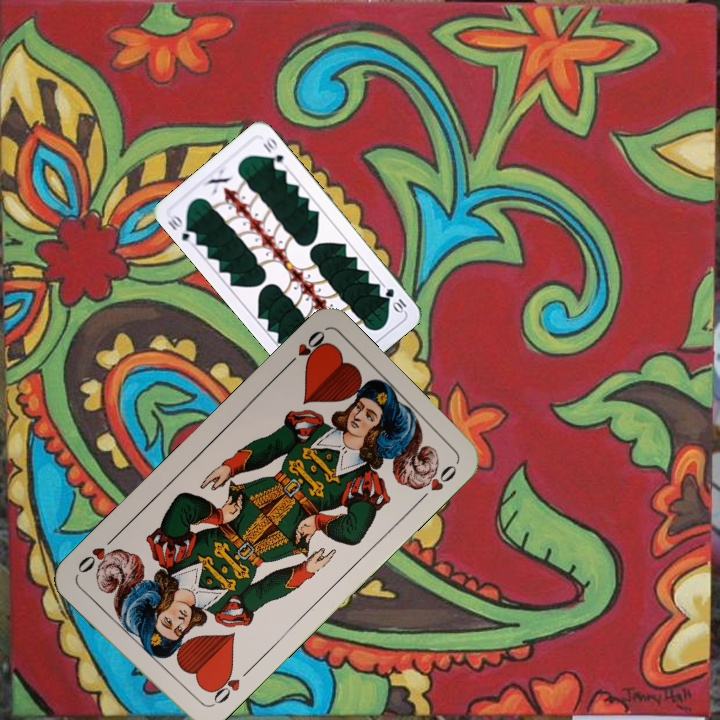G10: (164, 211, 200, 247), (381, 284, 409, 315)
HO: (280, 326, 330, 372), (204, 664, 253, 710)
